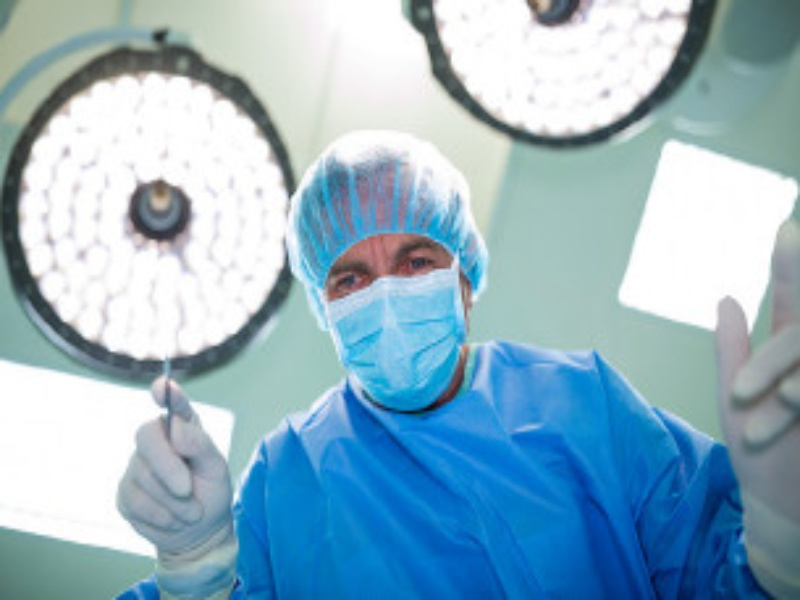mask: (283, 120, 481, 408)
